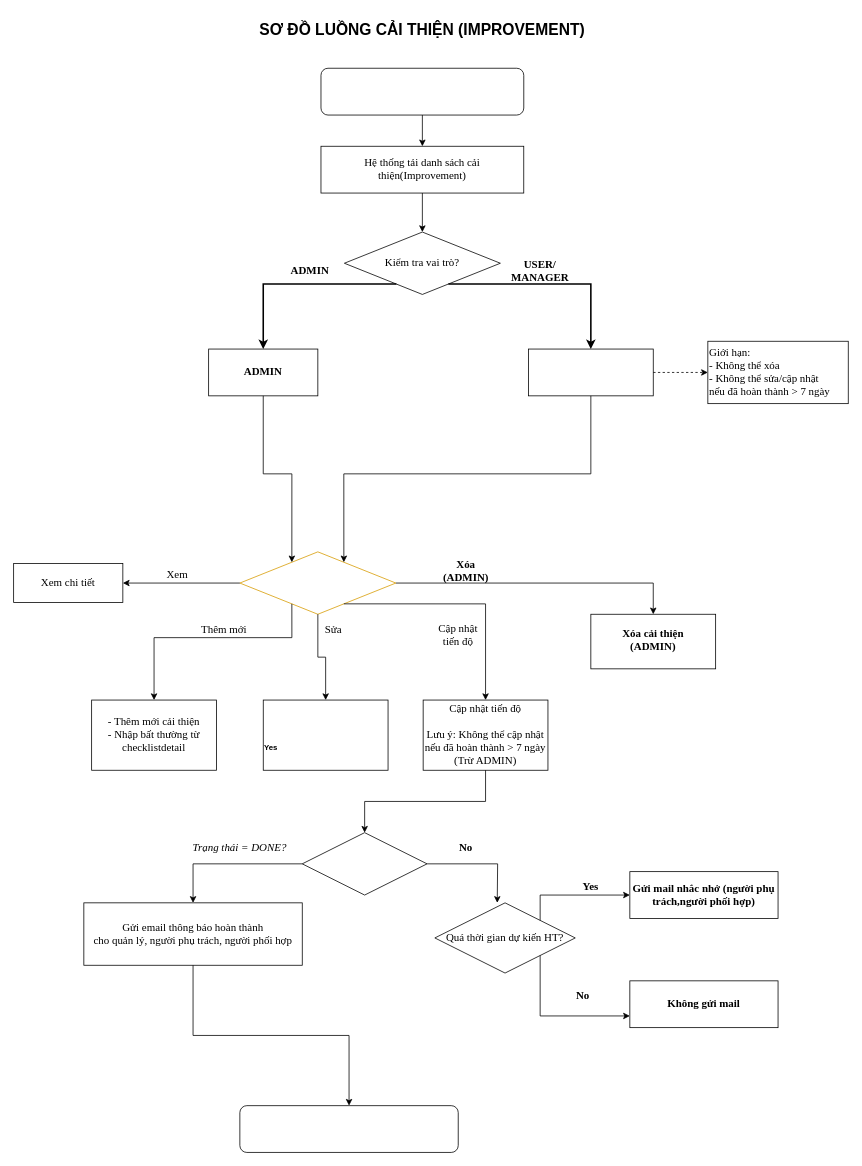
The diagram is 862 pixels wide and 1166 high, and some of its shapes have lost their labels. Each missing label, with the box of its shape:
Chọn hành động?: (239, 551, 396, 614)
Hoàn thành: (239, 1105, 458, 1152)
Kiểm tra trạng thái sau khi cập nhật: (301, 832, 427, 895)
Người dùng truy cập Improvement Page: (320, 67, 524, 115)
Sửa cải thiện Lưu ý: Không thể chỉnh sửa nếu đã hoàn thành > 7 ngày: (262, 699, 388, 770)
USER / MANAGER: (528, 348, 653, 396)
